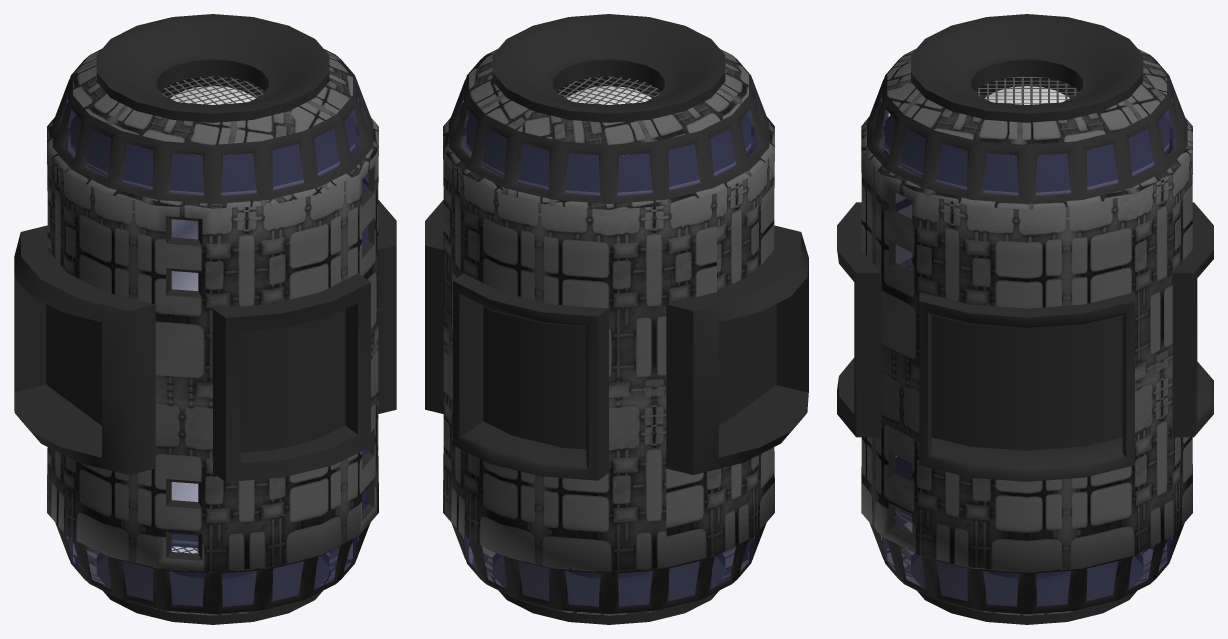
The model's file is Scifi-structure-Connector-2.FBX.
3 views of the same model, side by side, from view 1: azimuth 30°, elevation 25°; view 2: azimuth 150°, elevation 25°; view 3: azimuth 270°, elevation 25° (orthographic).
Visible parts, largest first — view 1: Scifi-structure-Connector-2, Inside-scifi-structure-Connector-2; view 2: Scifi-structure-Connector-2, Inside-scifi-structure-Connector-2; view 3: Scifi-structure-Connector-2, Inside-scifi-structure-Connector-2.
Boxes of the visible parts, box(x1,y1,x2,y2) form: Scifi-structure-Connector-2: box(14, 14, 396, 624); Inside-scifi-structure-Connector-2: box(70, 76, 355, 547); Scifi-structure-Connector-2: box(425, 14, 808, 624); Inside-scifi-structure-Connector-2: box(466, 76, 751, 195); Scifi-structure-Connector-2: box(837, 14, 1213, 624); Inside-scifi-structure-Connector-2: box(885, 76, 1169, 523).
Size of the model in its own units: 28.03 by 26.45 by 39.59.
